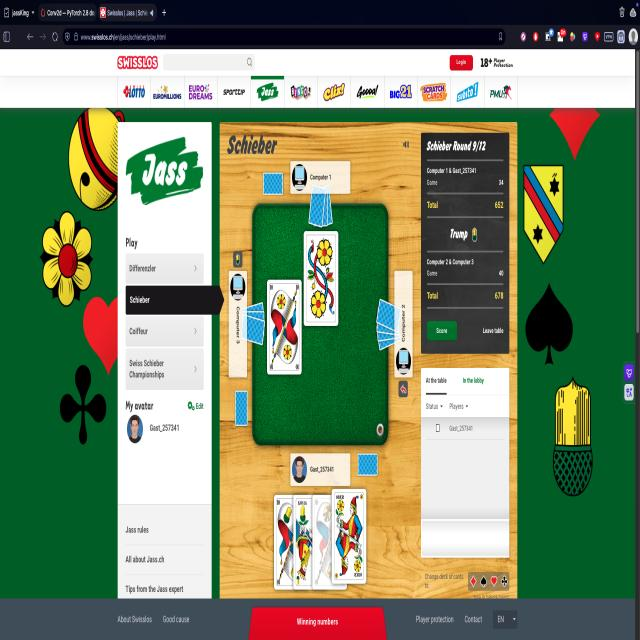ei10: (275, 496, 309, 590)
eik: (294, 494, 328, 592)
ro10: (268, 280, 301, 372)
roa: (304, 230, 338, 324)
roo: (333, 488, 364, 580)
se10: (312, 493, 345, 588)
